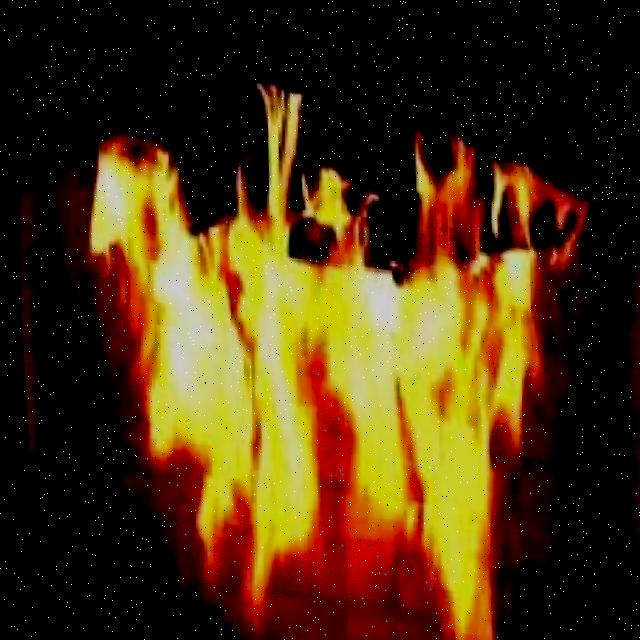Fire: (50, 36, 627, 640)
